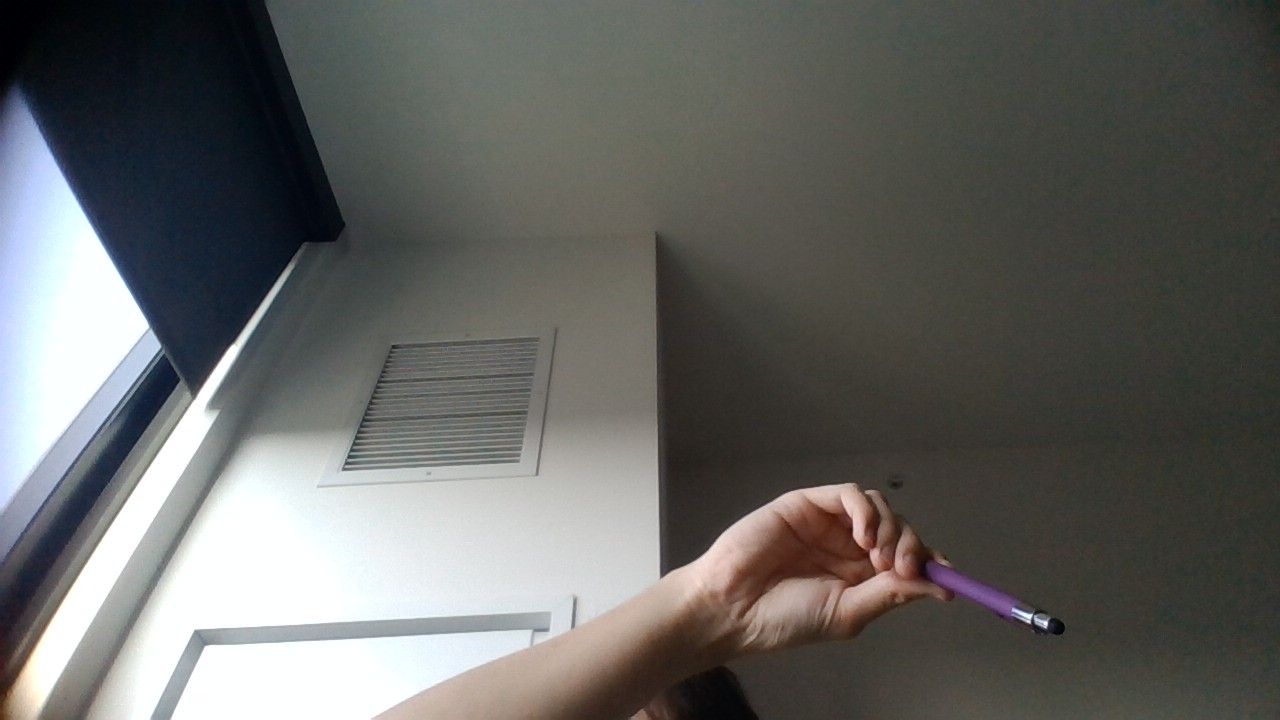Cypres Pen Purple: (915, 560, 1062, 641)
